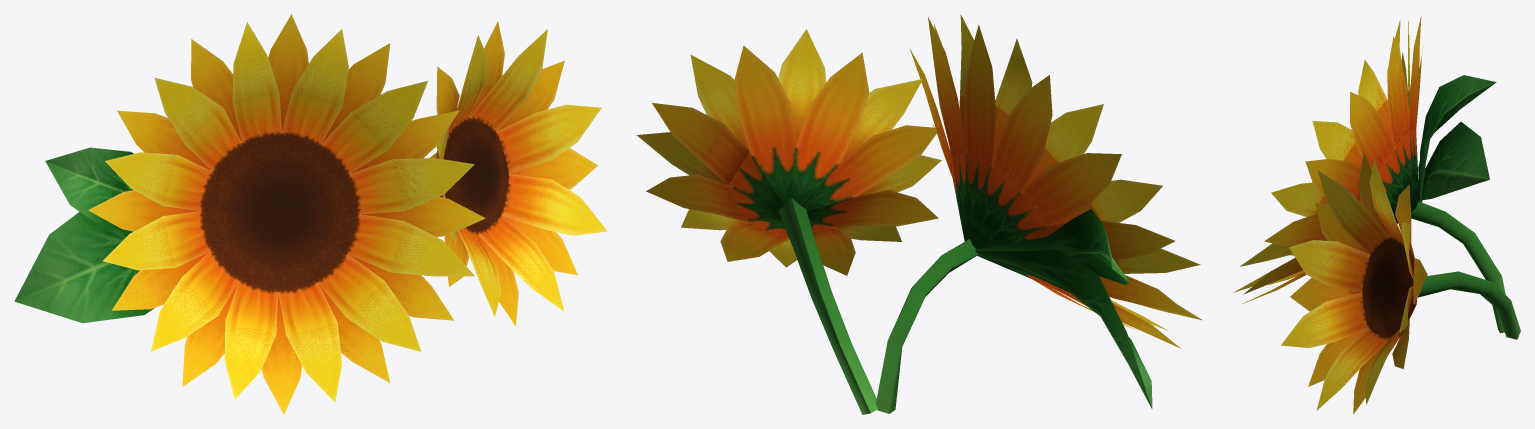
File: flowersCasilla39.obj
3 views of the same model, side by side, from view 1: azimuth 30°, elevation 25°; view 2: azimuth 150°, elevation 25°; view 3: azimuth 270°, elevation 25° (orthographic). The views are drawn at different scales.
Visible parts, largest first — view 1: acc137_0; view 2: acc137_0; view 3: acc137_0.
Boxes of the visible parts, <box> form: acc137_0: <box>14,14,607,414</box>; acc137_0: <box>637,14,1202,414</box>; acc137_0: <box>1233,15,1520,414</box>.
Bounding box in the file's own units: 17.41 × 10.19 × 9.29.
Materials: 1 (1 with a texture image).
